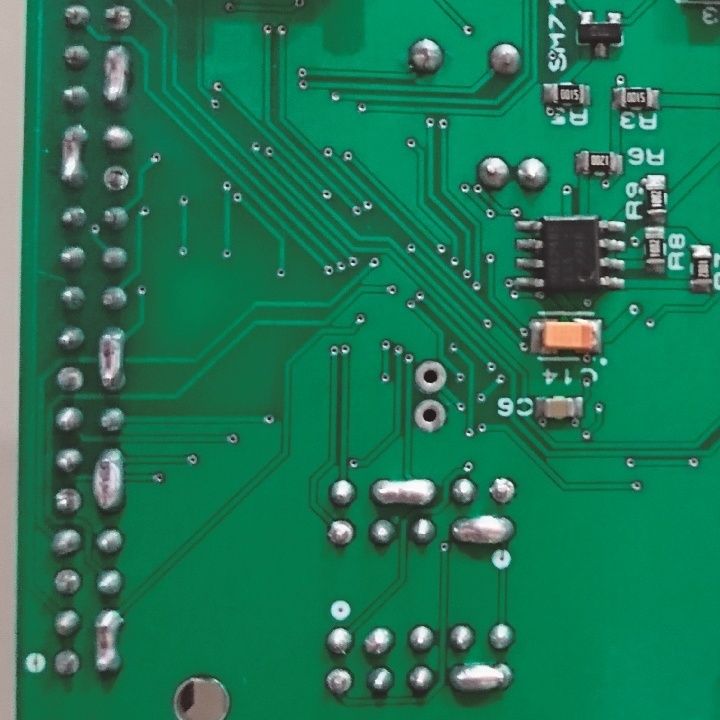F: (413, 394, 450, 433), (413, 356, 449, 395), (52, 480, 84, 518), (47, 645, 81, 679), (50, 565, 84, 597), (51, 365, 87, 395), (99, 163, 133, 193), (487, 476, 521, 506), (324, 516, 357, 546), (324, 668, 354, 698)
P: (93, 446, 128, 518), (370, 472, 438, 509), (97, 41, 133, 110), (448, 513, 516, 549), (96, 324, 130, 395), (447, 661, 515, 696), (94, 606, 124, 679), (58, 120, 87, 189)
